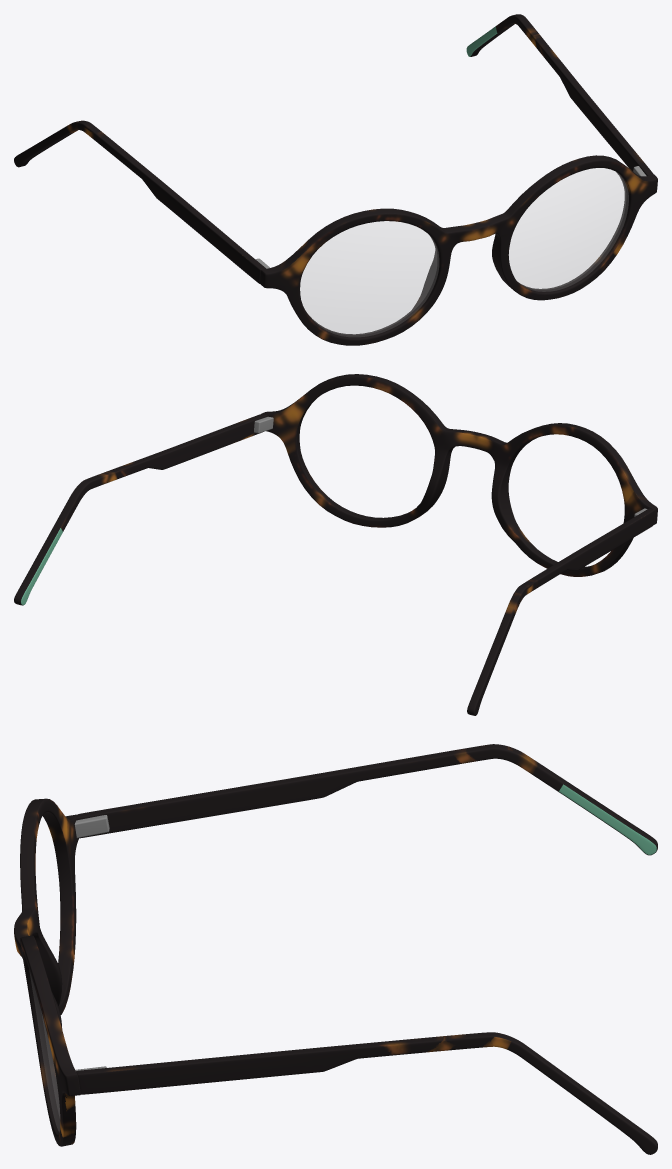
File: Franklin O1401.glb
3 renders of one model, top to bottom at view 1: azimuth 30°, elevation 25°; view 2: azimuth 150°, elevation 25°; view 3: azimuth 270°, elevation 25°, orthographic. The views are drawn at different scales.
Visible parts, largest first — view 1: lens1, frame1; view 2: frame1; view 3: frame1, lens1, metal1.
Boxes of the visible parts, left/top/right/bottom form: lens1: left=300, top=168, right=628, bottom=336; frame1: left=14, top=14, right=657, bottom=345; frame1: left=14, top=374, right=657, bottom=715; frame1: left=14, top=744, right=657, bottom=1154; lens1: left=30, top=974, right=59, bottom=1130; metal1: left=74, top=815, right=109, bottom=1070.
Size of the model in its own units: 0.1517 by 0.0442 by 0.1354.
Materials: 4 (4 with a texture image).
